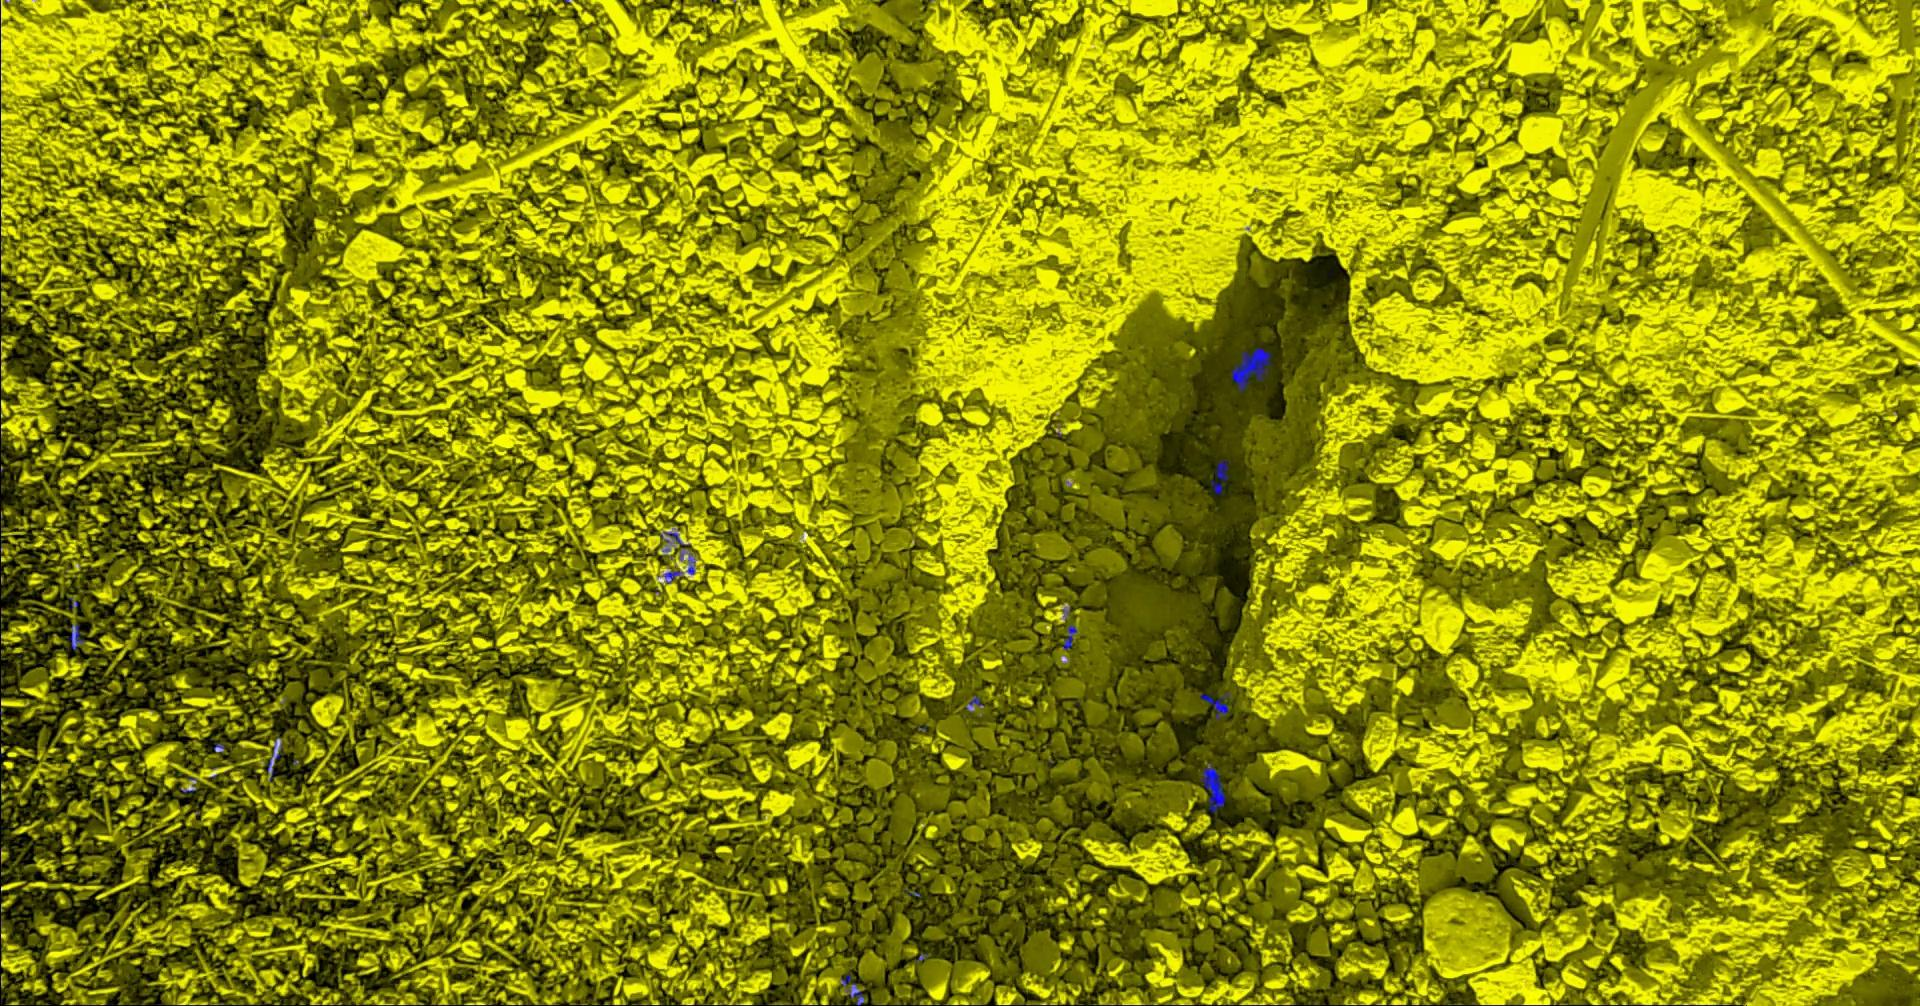ant: (1233, 347, 1272, 391), (1203, 763, 1225, 812), (1201, 692, 1232, 719), (662, 531, 690, 559), (843, 974, 866, 1005), (1211, 460, 1230, 494), (269, 741, 283, 781), (70, 622, 85, 650), (1064, 624, 1079, 649), (660, 570, 684, 583), (968, 695, 985, 711), (688, 553, 697, 574)
